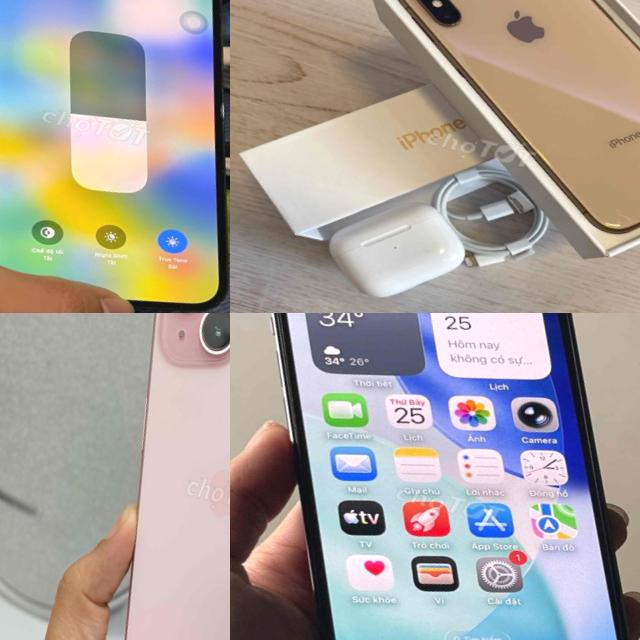gen_12_13: (230, 313, 640, 640), (0, 0, 230, 313)
gen_15: (42, 313, 230, 640)
gen_x_xs: (321, 0, 640, 282)
